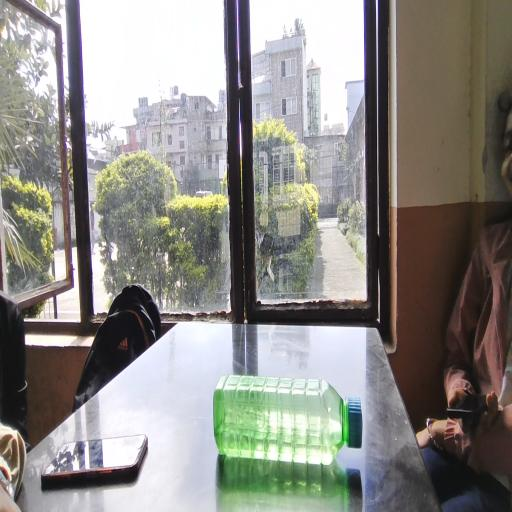Bottle: (208, 368, 373, 473)
